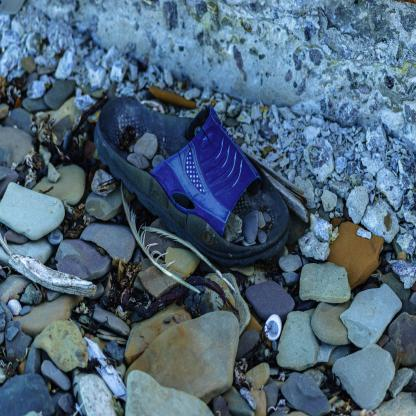plastik: (264, 313, 284, 341)
